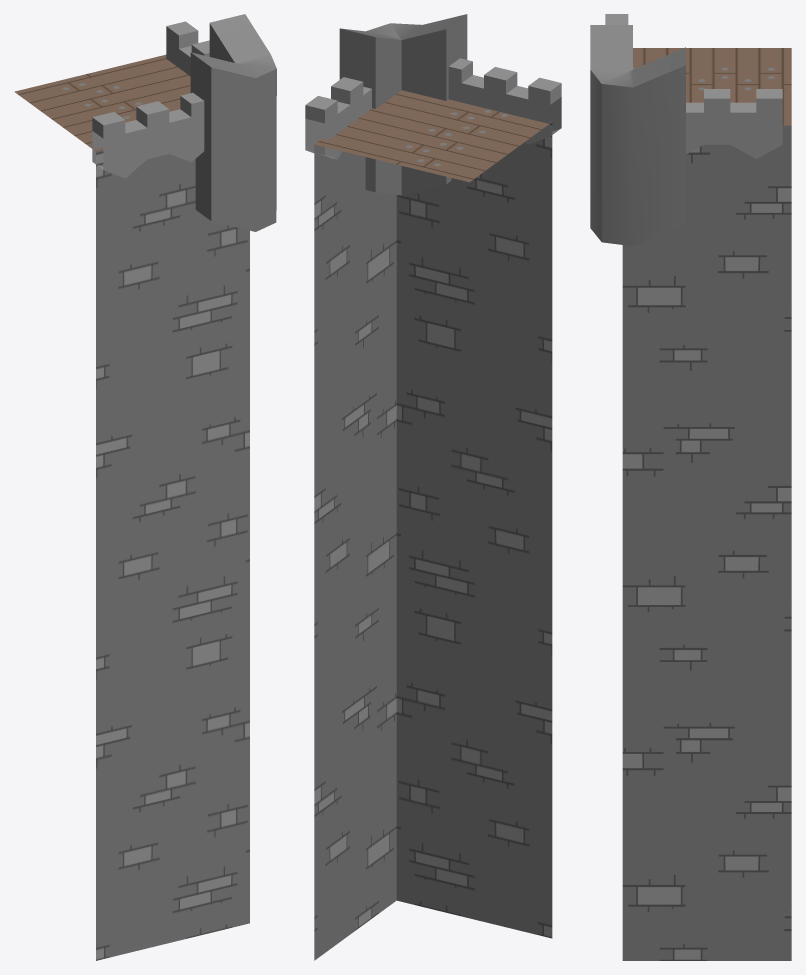
File: wall90.gltf
3 renders of one model, left to right at view 1: azimuth 30°, elevation 25°; view 2: azimuth 150°, elevation 25°; view 3: azimuth 270°, elevation 25°, orthographic. The views are drawn at different scales.
Visible parts, largest first — view 1: wall90; view 2: wall90; view 3: wall90.
Part boxes in pixels (box(x1,y1,x2,y2)): wall90: box(14, 14, 276, 960); wall90: box(305, 14, 561, 960); wall90: box(590, 14, 791, 960).
Size of the model in its own units: 4.4 by 20.48 by 4.11.
4 materials, 2 textured.
